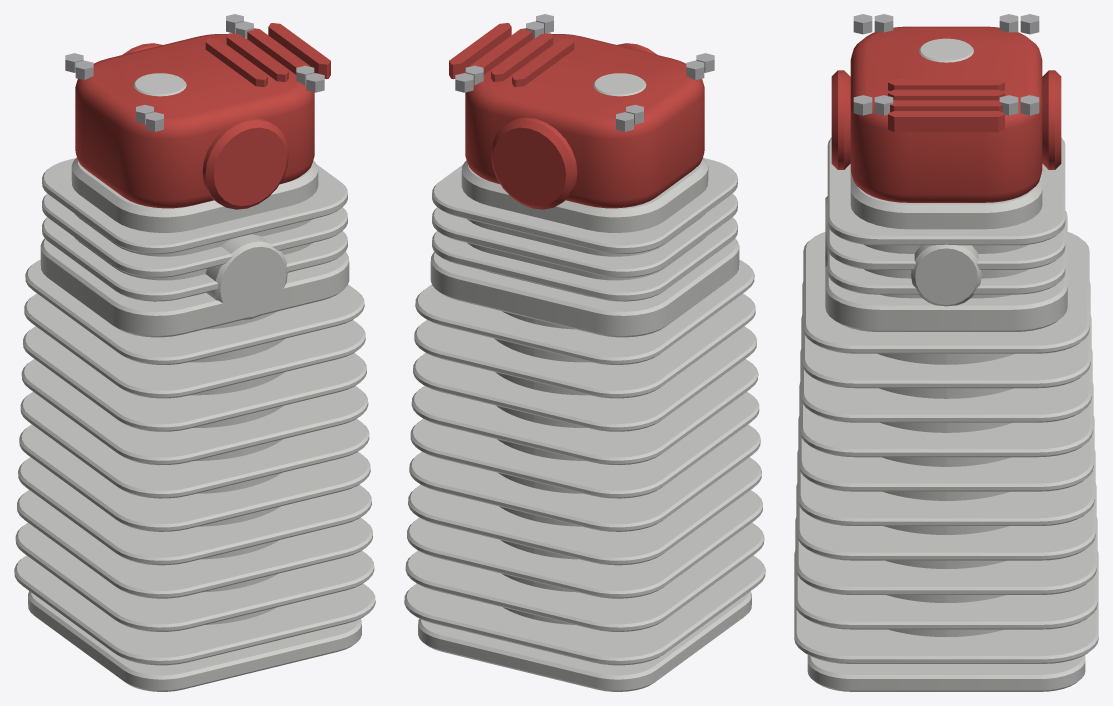
Rendered from hot_cam_2.glb.
3 renders of one model, left to right at view 1: azimuth 30°, elevation 25°; view 2: azimuth 150°, elevation 25°; view 3: azimuth 270°, elevation 25°, orthographic. The views are drawn at different scales.
Parts seen in each view (by area): view 1: hot_cam_2; view 2: hot_cam_2; view 3: hot_cam_2.
Part boxes in pixels (x1,y1,x2,y2): hot_cam_2: (14, 14, 375, 691); hot_cam_2: (404, 14, 765, 691); hot_cam_2: (794, 14, 1098, 691).
Size of the model in its own units: 0.146 by 0.3043 by 0.146.
